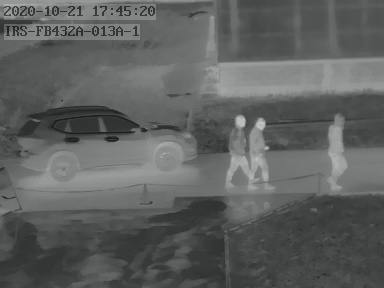person: (323, 111, 354, 195), (245, 113, 270, 191), (224, 114, 245, 190)
vehicle: (15, 103, 197, 180)
